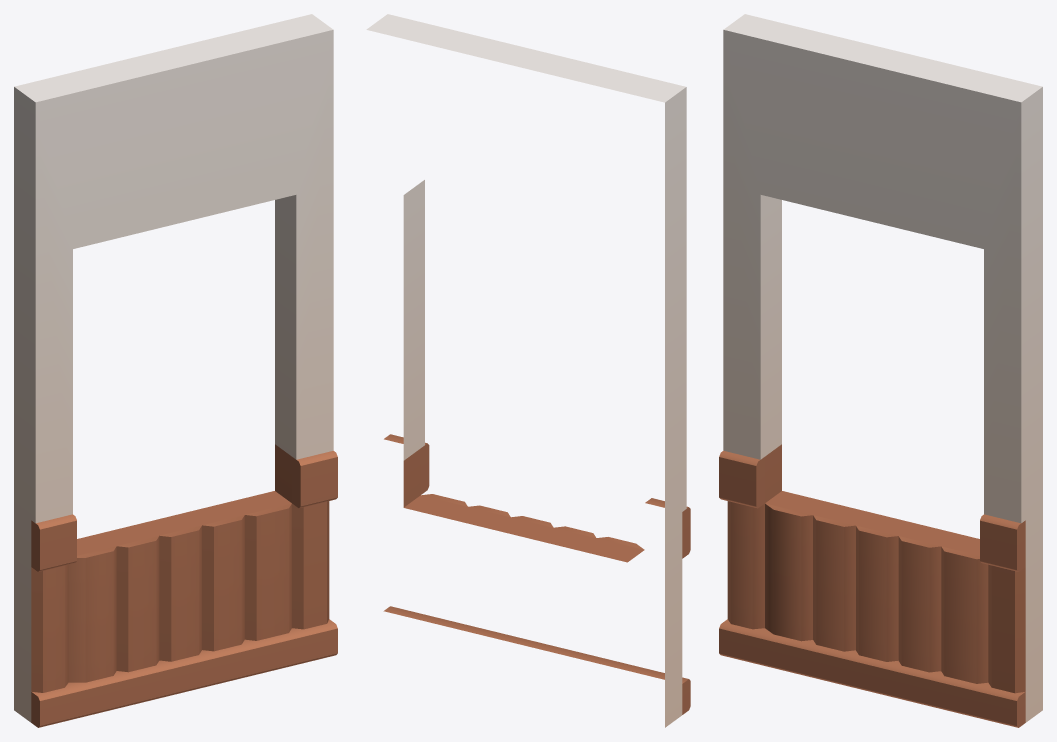
Rendered from wall-modular-panelled-bakery-window-small-a.glb.
3 views of the same model, side by side, from view 1: azimuth 30°, elevation 25°; view 2: azimuth 150°, elevation 25°; view 3: azimuth 330°, elevation 25° (orthographic).
Parts seen in each view (by area): view 1: wall_modular_panelled_bakery_window_small_A; view 2: wall_modular_panelled_bakery_window_small_A; view 3: wall_modular_panelled_bakery_window_small_A.
Part boxes in pixels (x1,y1,x2,y2): wall_modular_panelled_bakery_window_small_A: (14,14,337,727); wall_modular_panelled_bakery_window_small_A: (366,14,690,727); wall_modular_panelled_bakery_window_small_A: (719,14,1042,727).
Size of the model in its own units: 2 by 4 by 0.3.
1 material, 1 textured.
